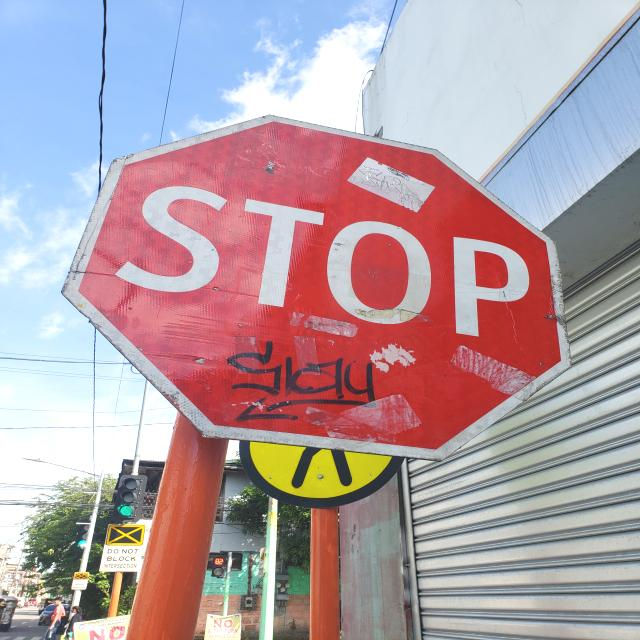stop-sign: (59, 113, 572, 460)
